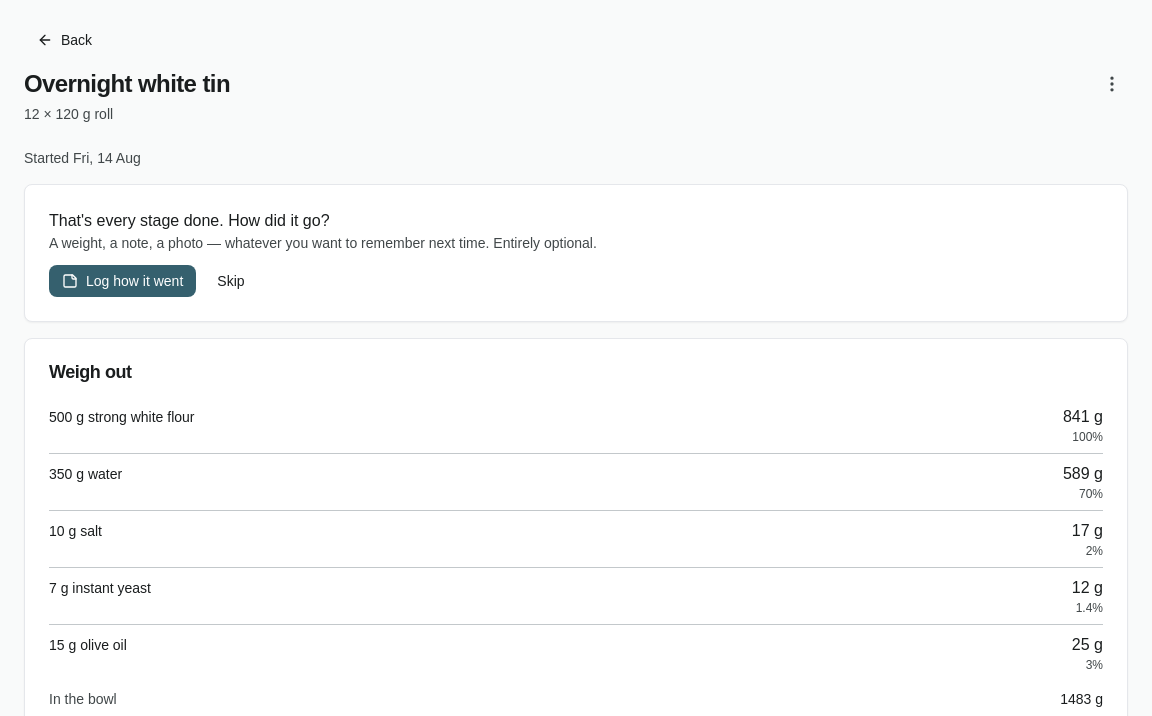
Test: BatchDetailPage — the invitation at the end of a run › takes one tap to skip, and does not block anything on the way past
The width and height of the screenshot is (1152, 716).
Click the button with test id "batch-log-prompt-skip" at (231, 281), box [204, 265, 258, 297]
(page scrolled)
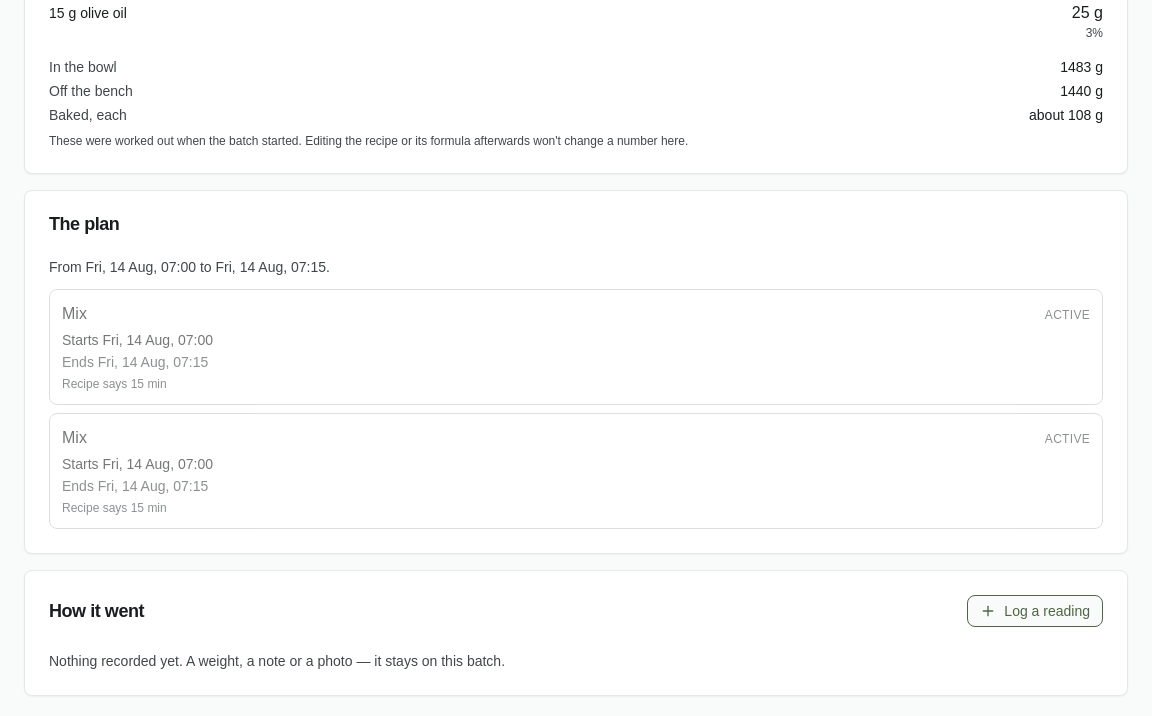
Check: the button with test id "batch-log-add" is shown, box [967, 595, 1103, 627]
Check: the element with test id "batch-log-prompt" is gone
